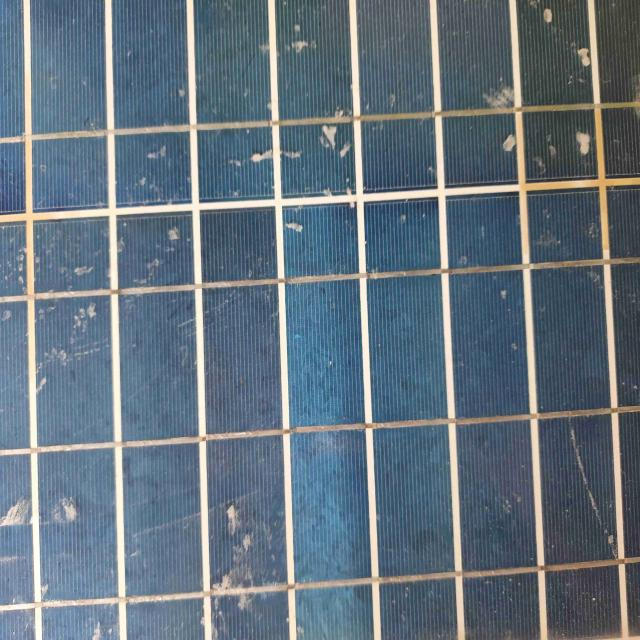dust-solar-panel: (0, 0, 640, 638)
